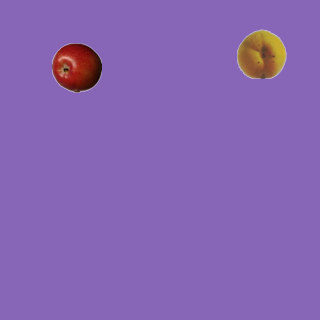Apple Braeburn: (51, 42, 101, 92)
Peach 2: (236, 28, 286, 78)
